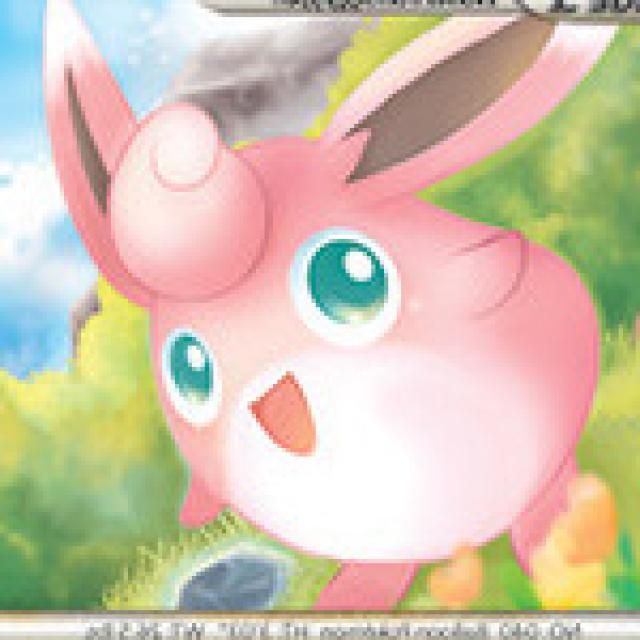Wigglytuff: (98, 98, 602, 570)
